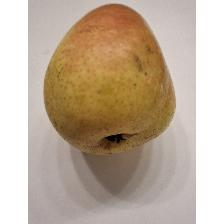Birne: (40, 3, 178, 157)
